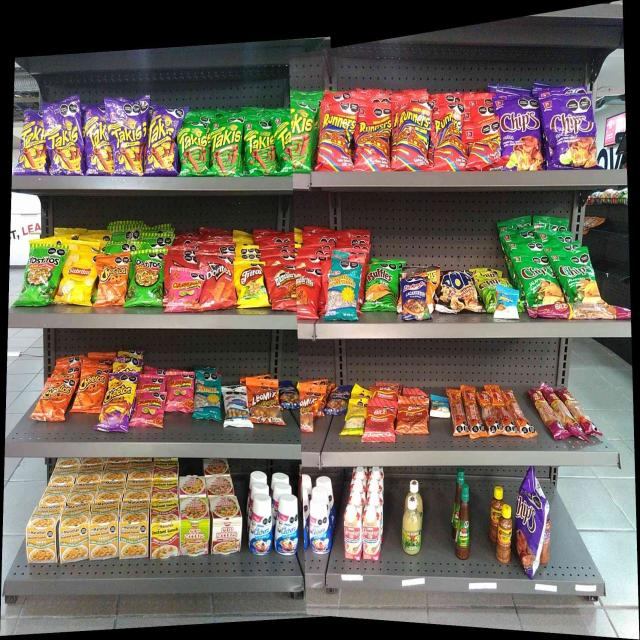bitzAlmendras: (495, 286, 519, 319), (430, 392, 451, 420)
bitzEnchilado90: (368, 402, 396, 442), (398, 397, 428, 433)
bitzEnchilado95: (452, 382, 522, 436)
bitzHabanero: (539, 388, 583, 440), (527, 302, 630, 321)
bokadosCacahuates: (401, 275, 428, 321), (280, 378, 299, 409), (328, 386, 346, 414)
botaneraChilito: (497, 504, 512, 564)
cheetosFlaminHot: (107, 377, 132, 431)
cheetosOriginal: (99, 258, 127, 306), (42, 382, 71, 420), (80, 372, 106, 410)
chipsFuego: (545, 99, 597, 166), (516, 474, 548, 574), (501, 102, 542, 170)
chipsJalapeno: (558, 251, 594, 300), (521, 255, 557, 302)
chipsPapatinas: (472, 269, 511, 285)
churrumais: (172, 268, 200, 308), (136, 391, 166, 428), (168, 373, 194, 411)
delPrimoSalsa: (402, 496, 422, 555)
doritosNacho: (205, 258, 233, 306)
fritosLimon: (238, 264, 264, 304)
leoMix: (250, 378, 280, 422), (300, 388, 320, 434)
maruchanPollo: (29, 502, 58, 564), (120, 498, 148, 558), (90, 501, 118, 558), (62, 503, 88, 559)
maruchanRes: (149, 498, 179, 556)
nestleCarnation: (362, 503, 382, 561), (344, 503, 361, 562)
nestleLechera: (275, 493, 299, 556), (249, 494, 273, 556), (308, 496, 332, 554)
nissinCamaron: (180, 495, 208, 553)
nissinRes: (210, 495, 242, 553)
popKarameladas: (439, 270, 472, 311)
rancheritos: (296, 269, 318, 319), (273, 264, 296, 311)
rufflesQueso: (366, 264, 398, 311)
runners: (322, 104, 356, 170), (398, 104, 431, 168), (358, 105, 390, 169), (433, 109, 462, 168), (465, 122, 498, 170)
sabritasOriginal: (66, 252, 92, 306)
salsaBufalo: (455, 483, 470, 560)
semillasCalabaza: (348, 399, 367, 438)
semillasGirasol: (329, 259, 358, 321), (195, 372, 222, 420), (223, 386, 249, 427)
takisFuego: (113, 110, 145, 174), (50, 114, 80, 173), (148, 109, 176, 172), (86, 106, 111, 176), (22, 112, 48, 174)
takisOriginal: (212, 124, 242, 174), (246, 122, 274, 173), (178, 127, 208, 172), (293, 108, 312, 170), (276, 116, 292, 174)
tostitos: (26, 252, 59, 304), (132, 254, 164, 304)
